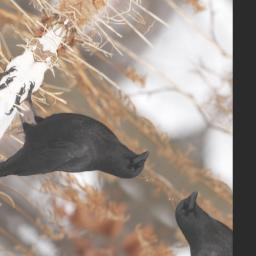Crow: (0, 59, 158, 256)
